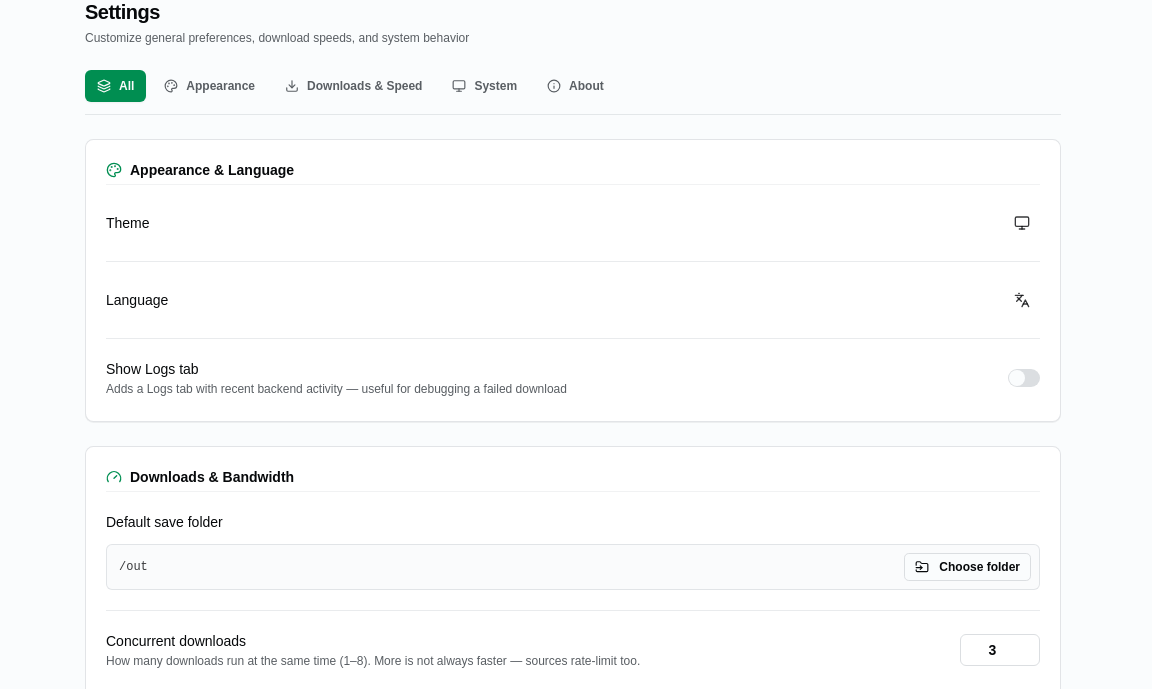
Test: Settings page — concurrency, rate limit, background mode (FR-112, FR-113, FR-126, FR-127) › keeps the saved concurrency when the box is left empty instead of writing 0
Clear the number field showing "3": point(1000, 650) [960, 634, 1040, 666]
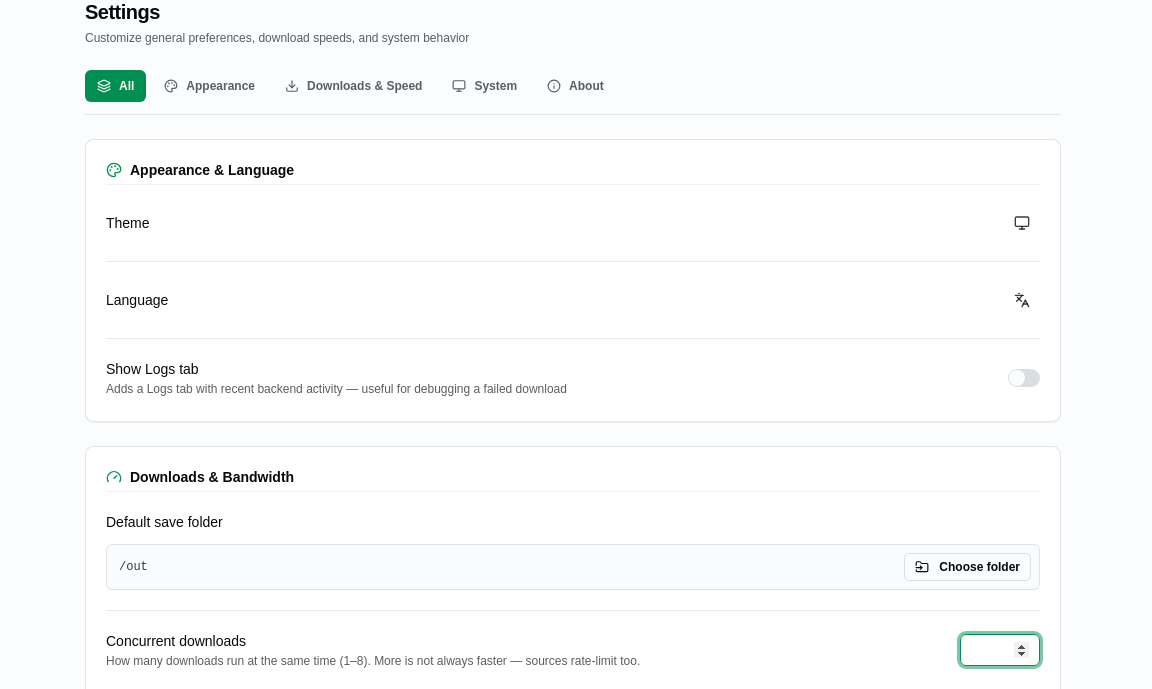
Press Tab
(page scrolled)
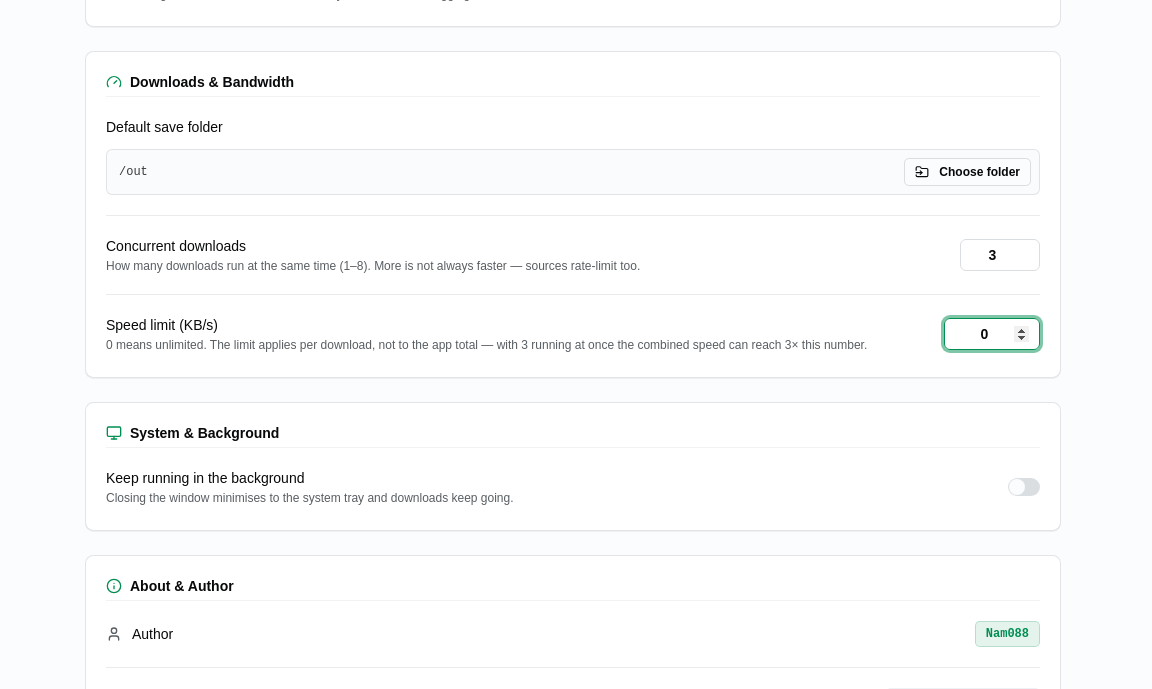
Now the number field showing "3" holds "3", box [960, 239, 1040, 271]
